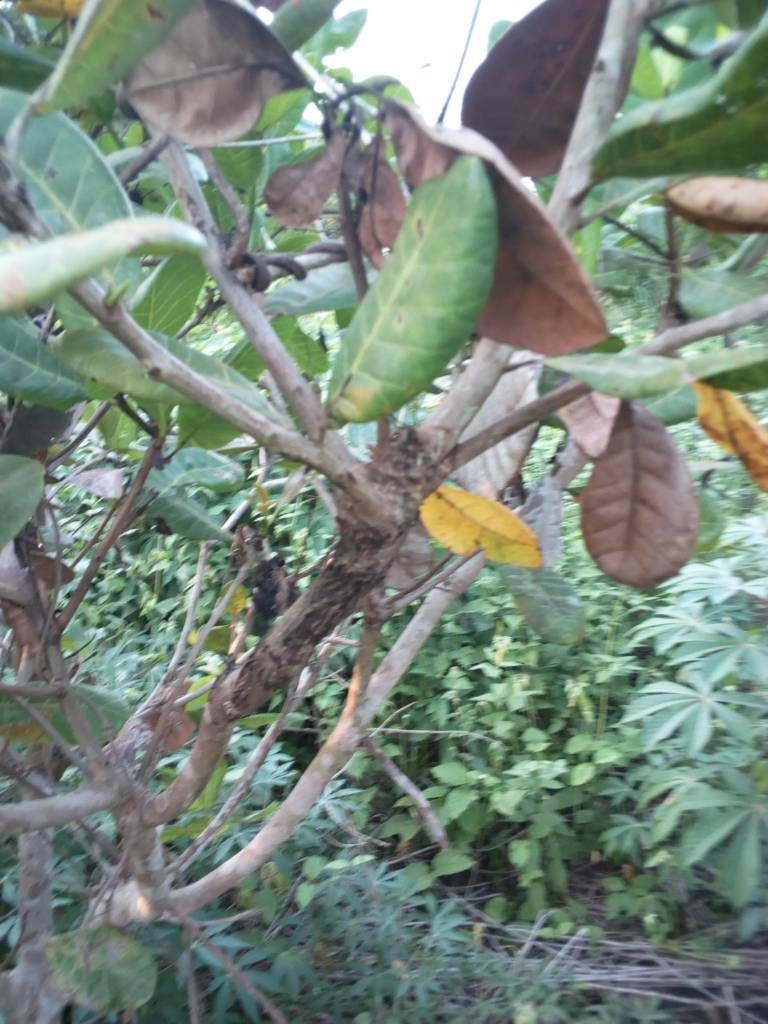Dessèchement des bourgeons: (280, 59, 394, 252)
